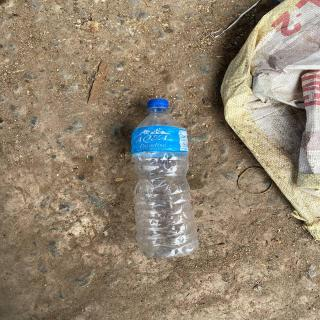Plastic-bottle: (130, 97, 203, 261)
